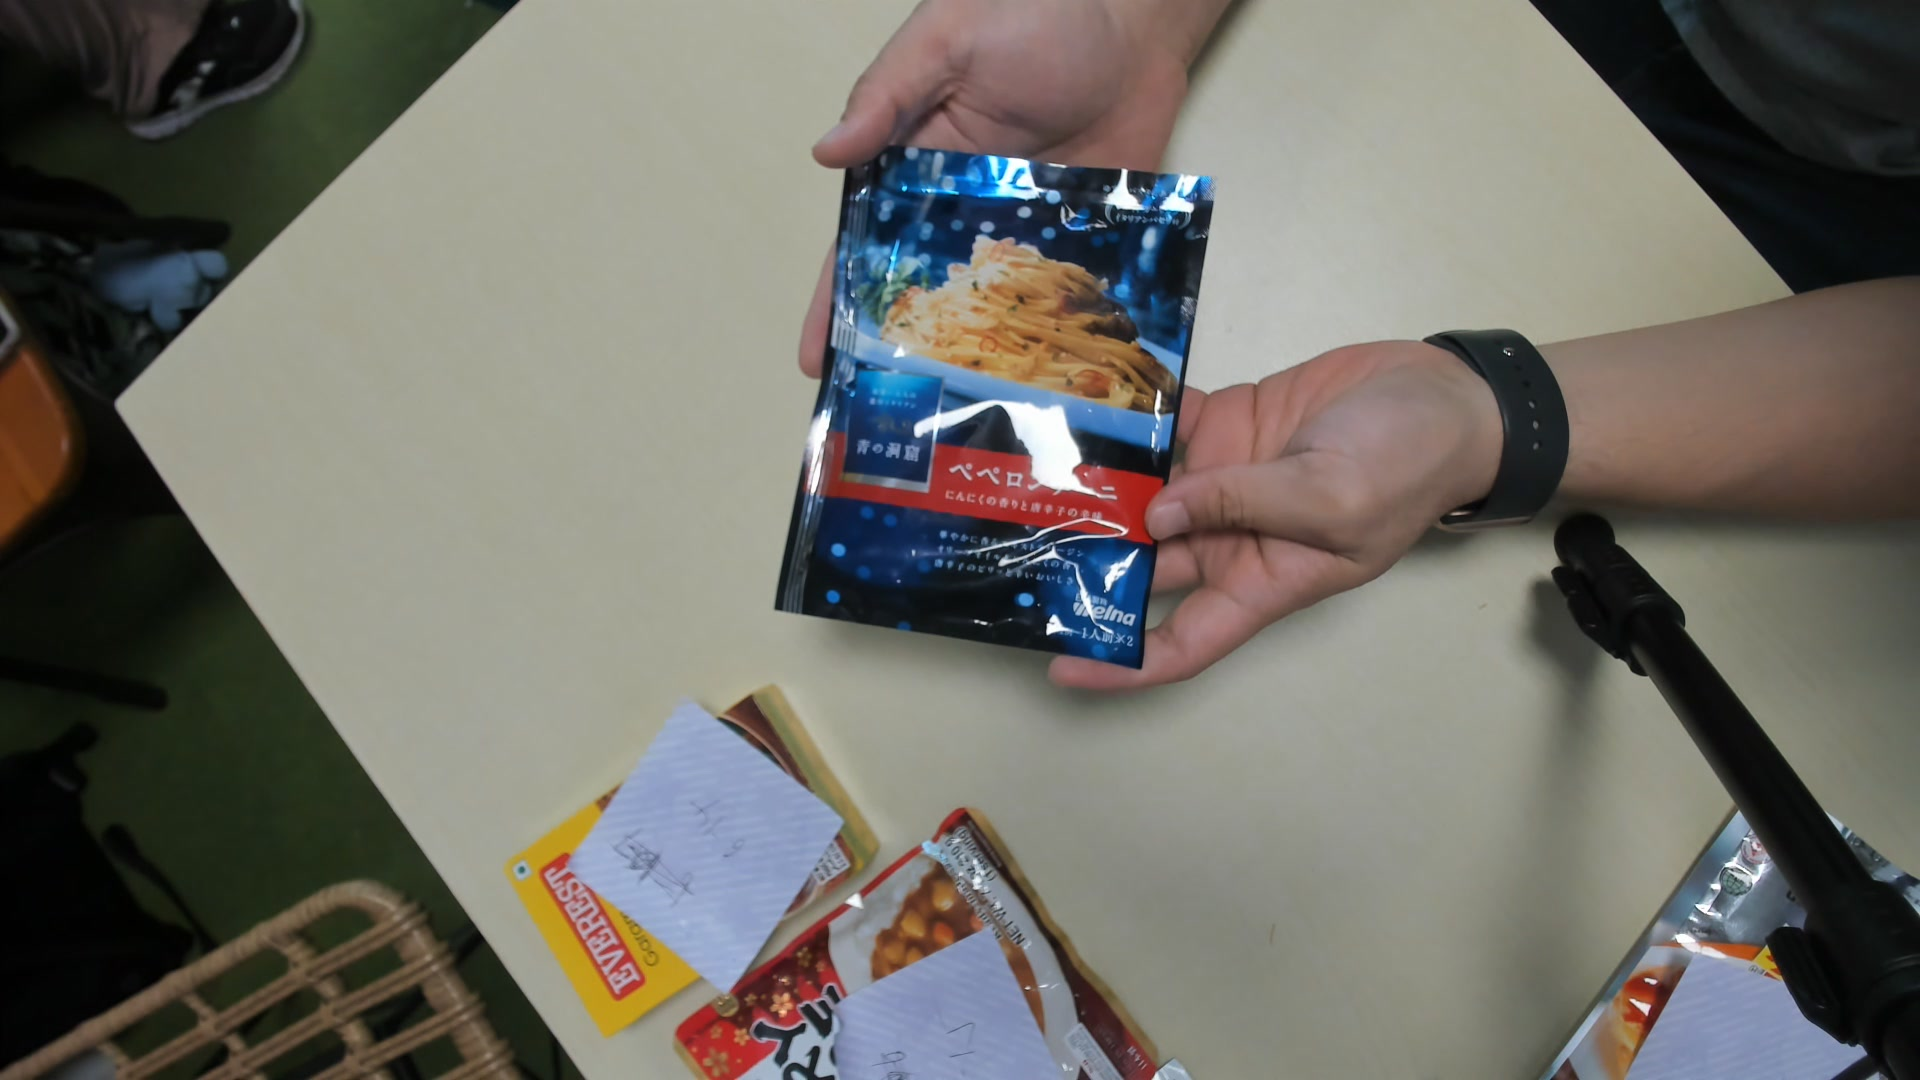CurryPastePowderSauce_0-99g_NonHalal_NonHealthy: (775, 149, 1211, 673)
